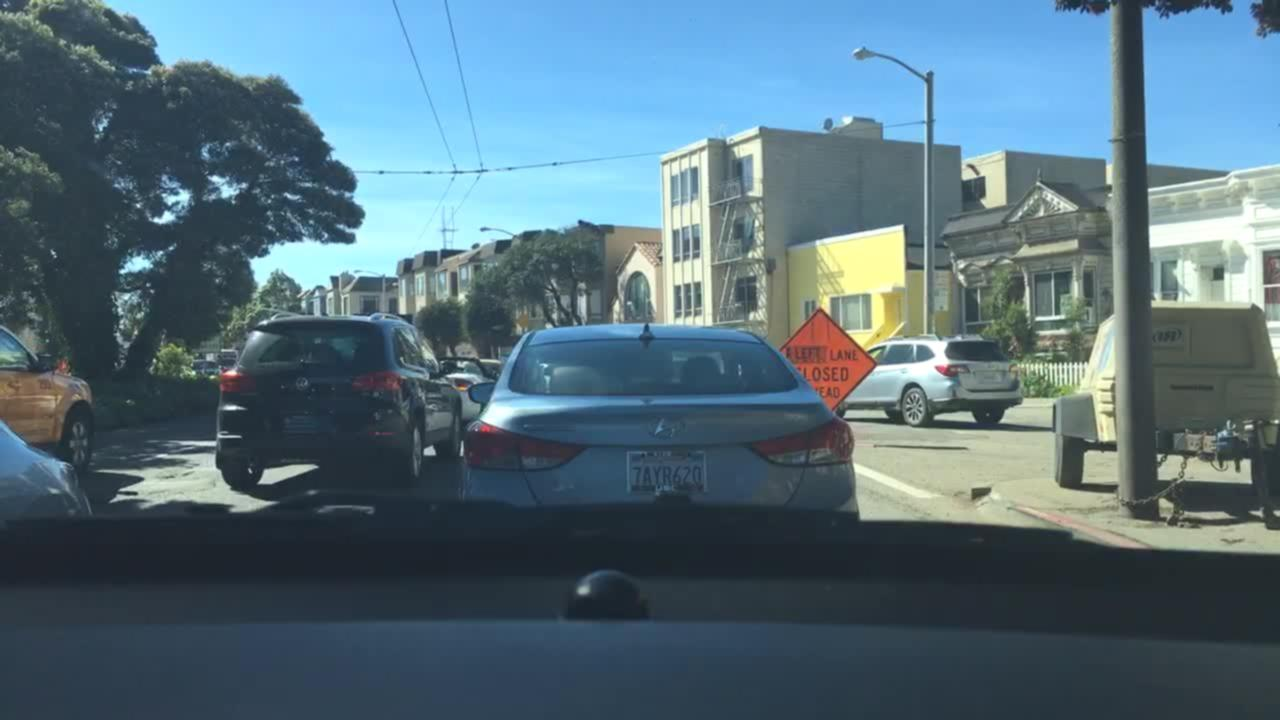Hyundai: (638, 407, 697, 443)
Volkswagen: (295, 376, 310, 392)
